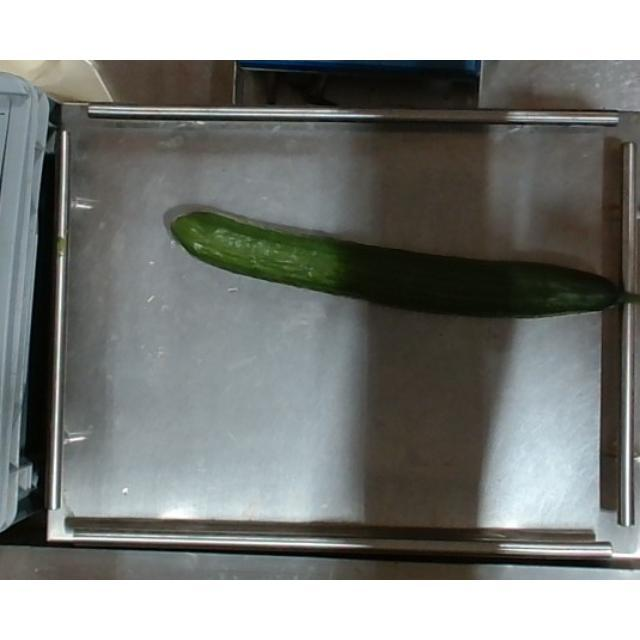cucumber: (172, 210, 638, 324)
